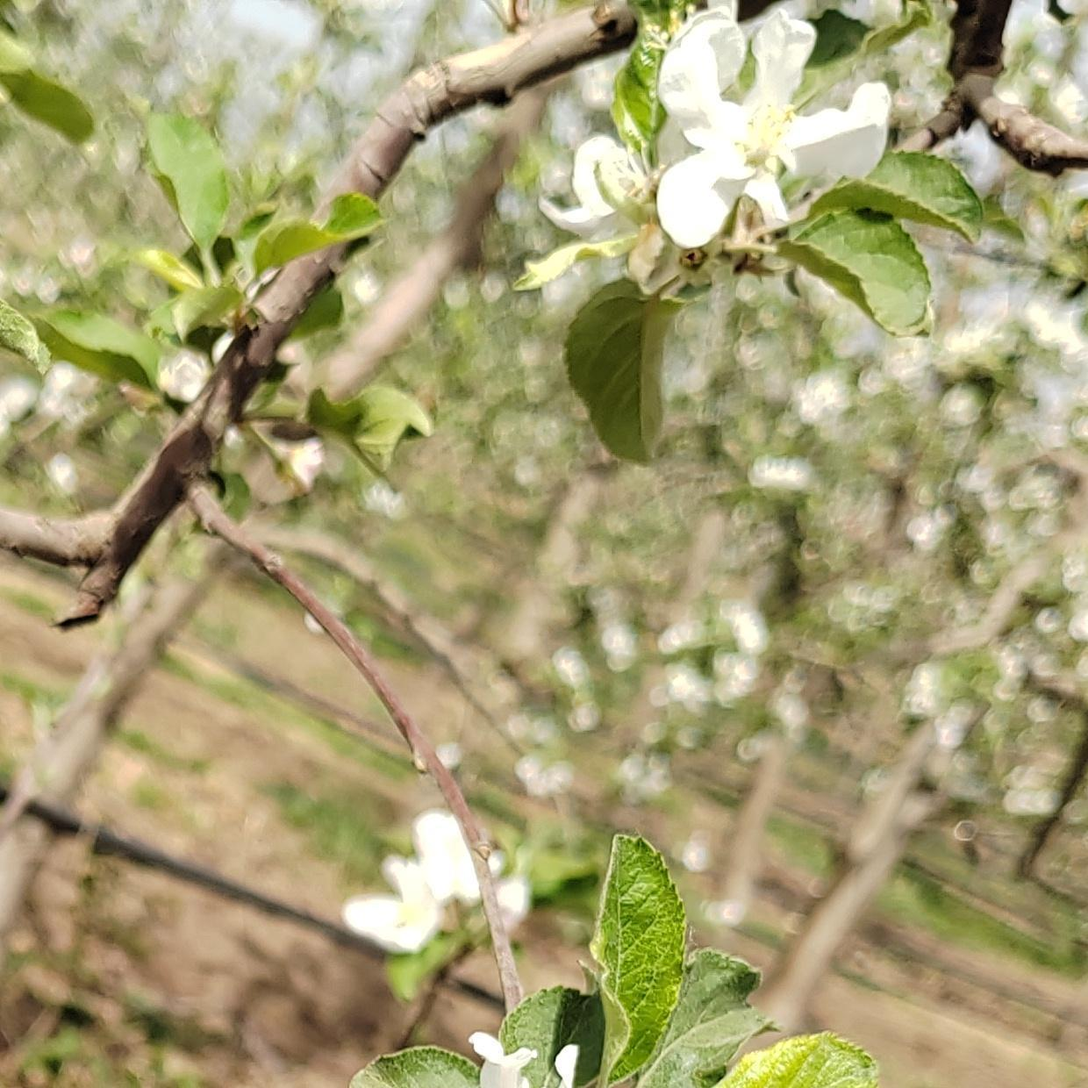apple_flower: (533, 0, 896, 292), (355, 986, 608, 1088)
